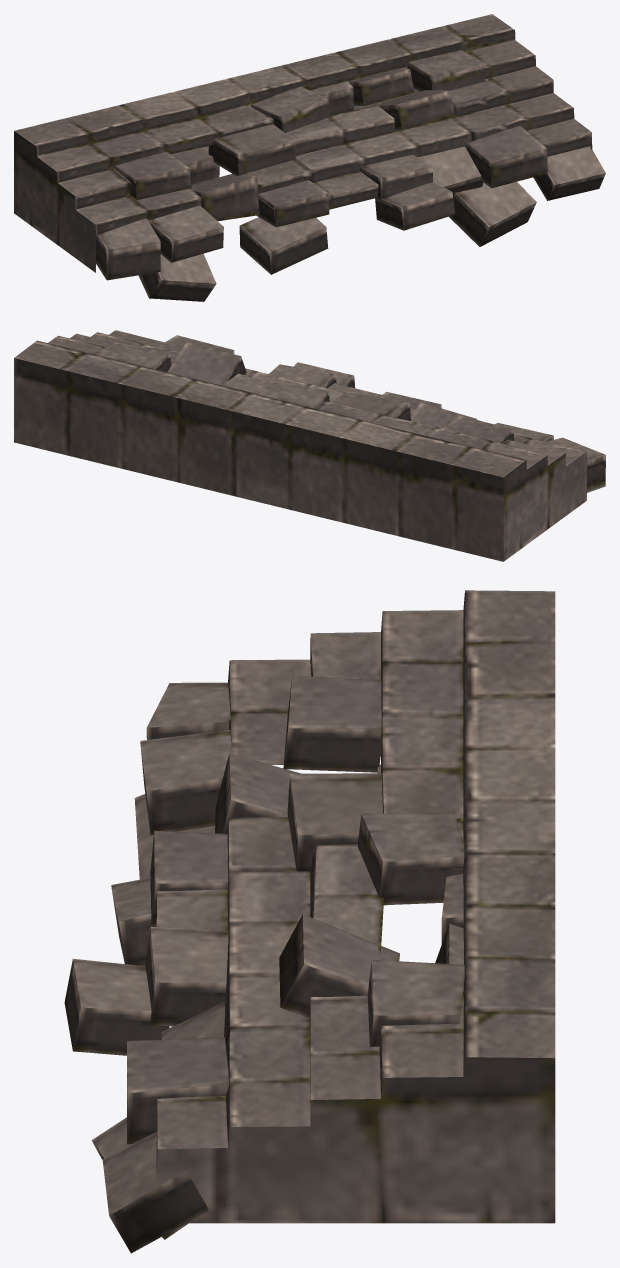
Rendered from SM_zhucheng_Floors_Block02_Broken.FBX.
3 views of the same model, one above another, from view 1: azimuth 30°, elevation 25°; view 2: azimuth 150°, elevation 25°; view 3: azimuth 270°, elevation 25° (orthographic). The views are drawn at different scales.
Parts seen in each view (by area): view 1: SM_zhucheng_Floors_Block02_Broken; view 2: SM_zhucheng_Floors_Block02_Broken; view 3: SM_zhucheng_Floors_Block02_Broken.
Part boxes in pixels (x1=…): SM_zhucheng_Floors_Block02_Broken: x1=14, y1=14, x2=605, y2=301; SM_zhucheng_Floors_Block02_Broken: x1=14, y1=330, x2=605, y2=561; SM_zhucheng_Floors_Block02_Broken: x1=64, y1=590, x2=555, y2=1253.
Size of the model in its own units: 306 by 74.55 by 134.
